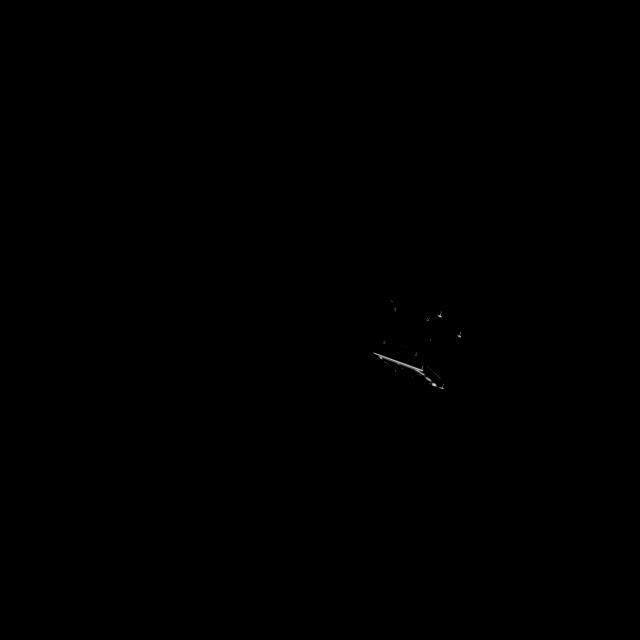satellite: (371, 287, 473, 398)
